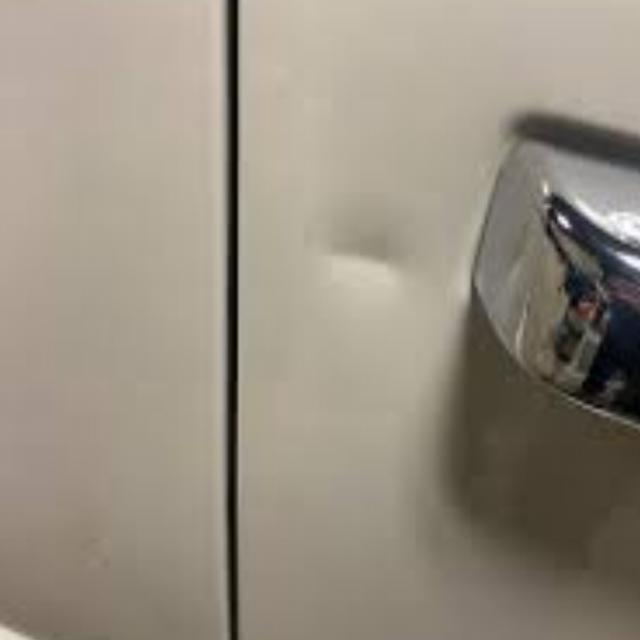dents: (318, 209, 427, 314)
